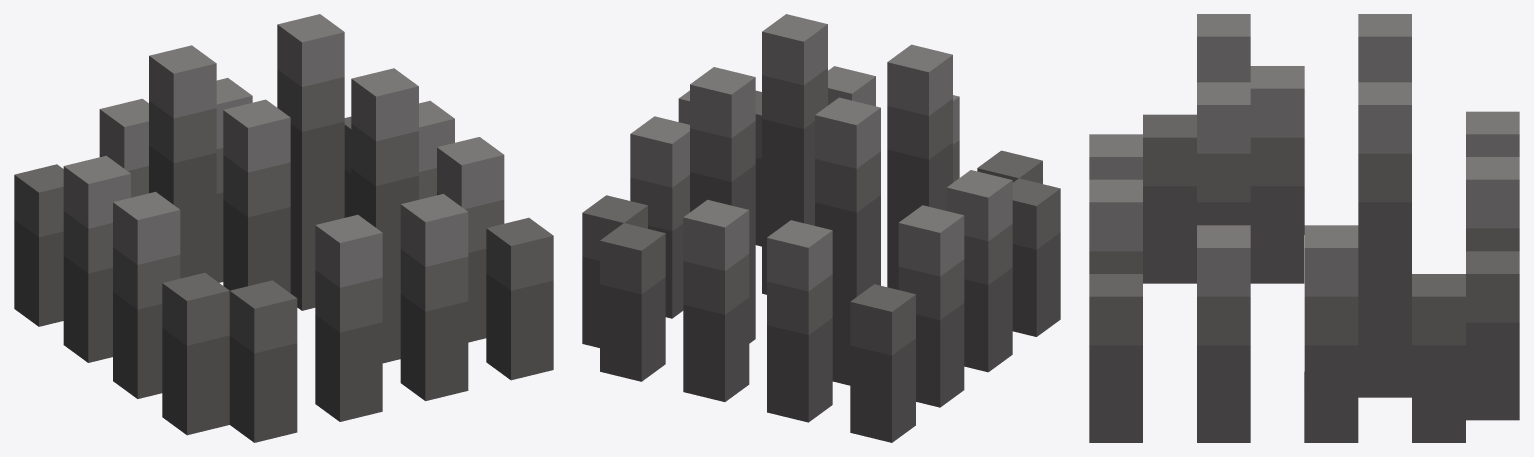
File: Spikes_Stone.glb
The picture shows the model from 3 angles, left to right: view 1: azimuth 30°, elevation 25°; view 2: azimuth 150°, elevation 25°; view 3: azimuth 270°, elevation 25°; orthographic projection. The views are drawn at different scales.
Visible parts, largest first — view 1: Untitled.001; view 2: Untitled.001; view 3: Untitled.001.
Part boxes in pixels (x1,y1,x2,y2): Untitled.001: [14, 14, 553, 442]; Untitled.001: [582, 14, 1060, 442]; Untitled.001: [1089, 14, 1519, 442].
Size of the model in its own units: 0.8 by 0.6 by 0.8.
Materials: 1 (1 with a texture image).
